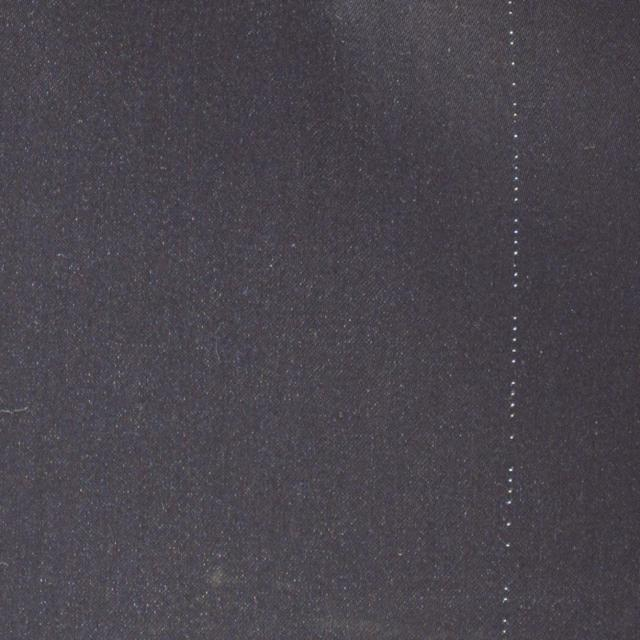Warp_Weft: (494, 0, 525, 639)
